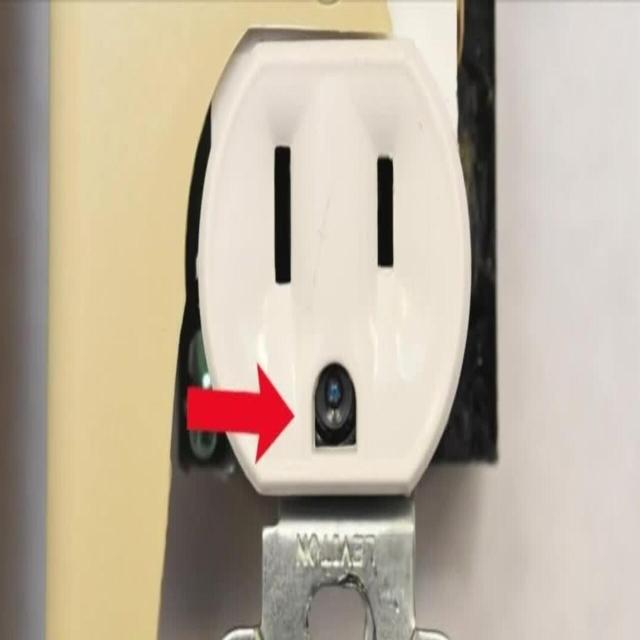hidden camera: (321, 374, 346, 413)
